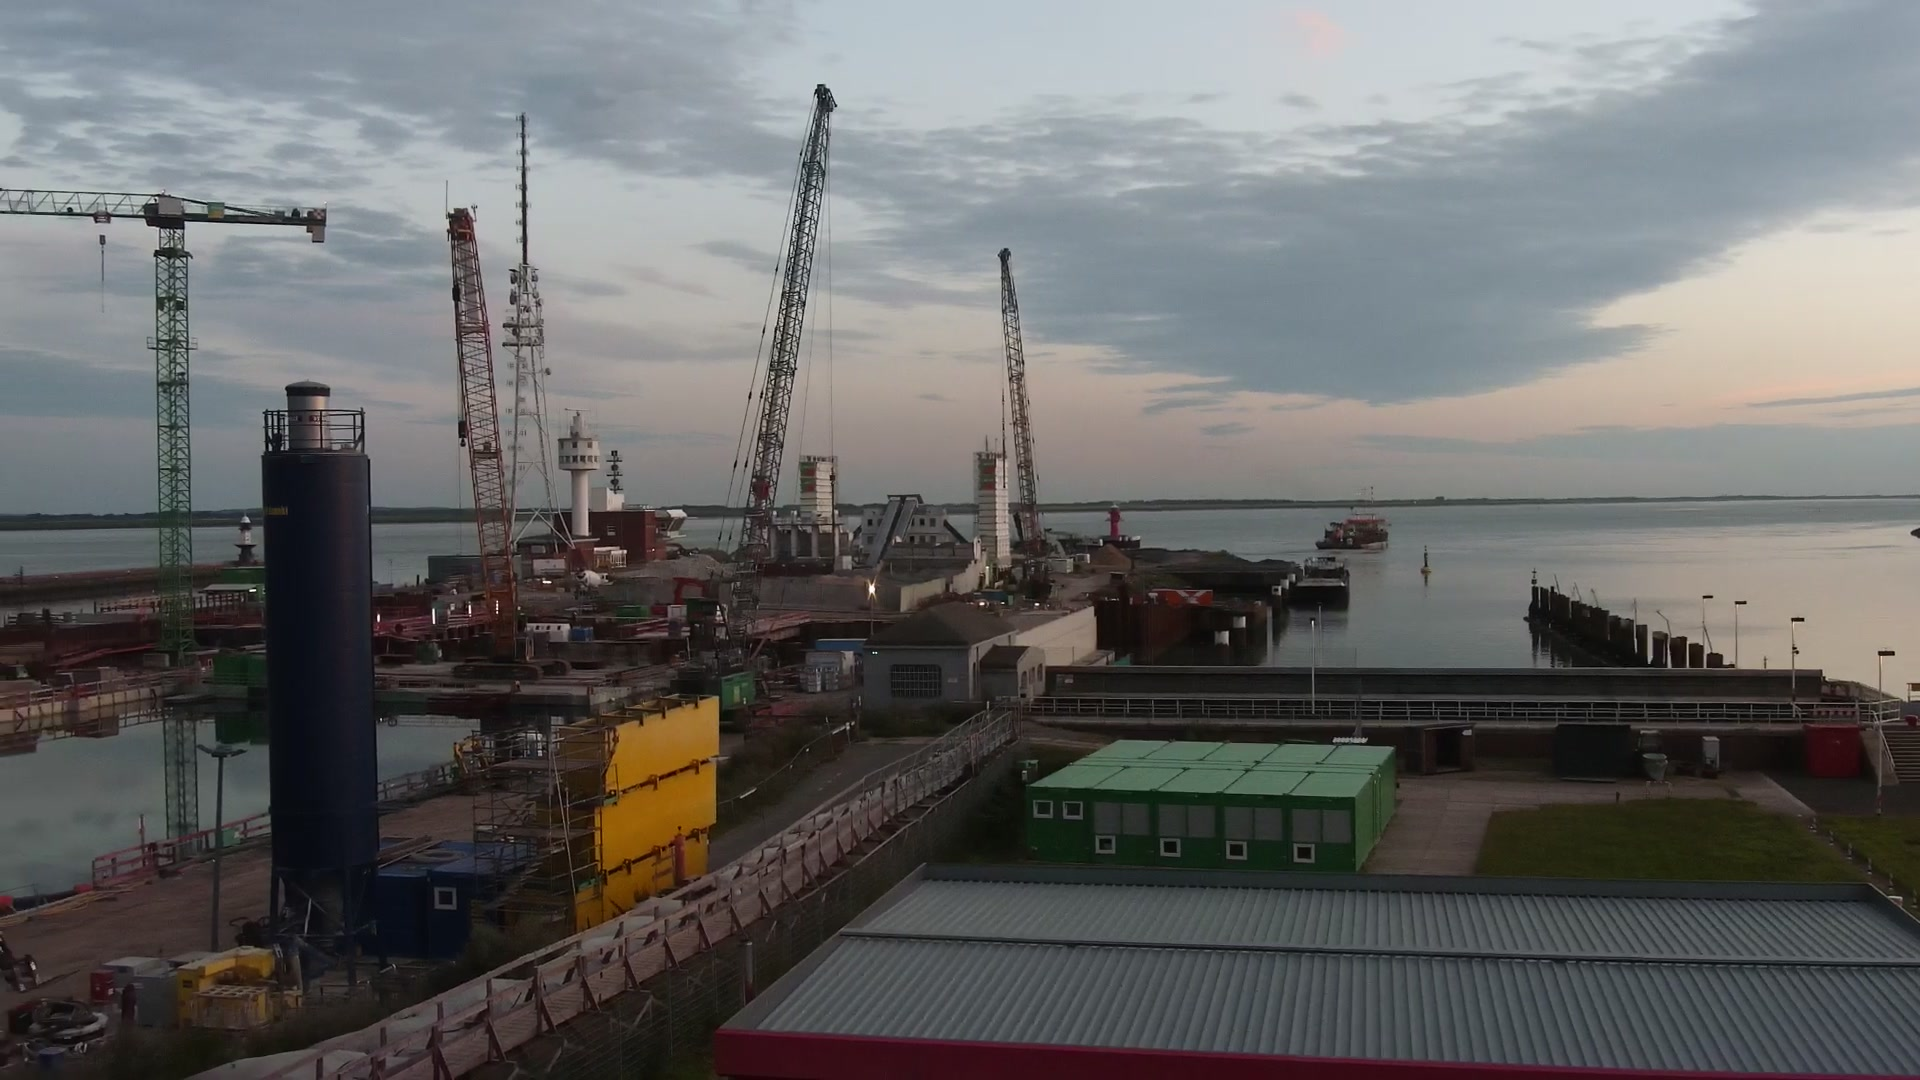land: (452, 733, 534, 794)
sea: (1313, 502, 1391, 550)
